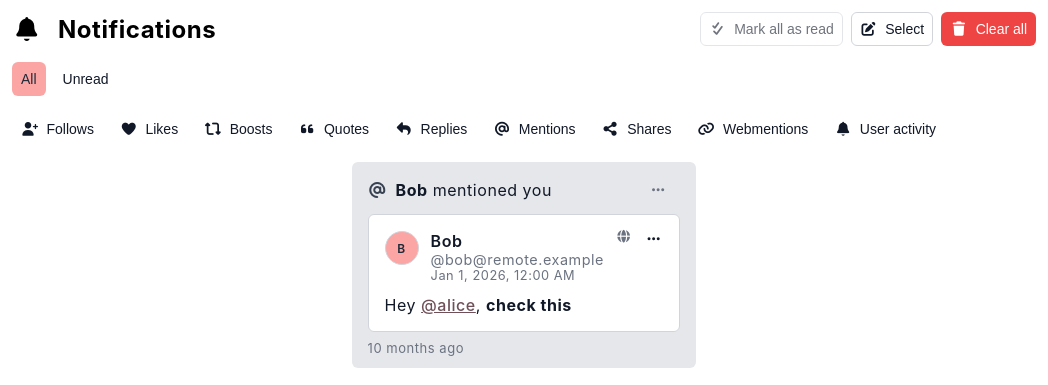
NotificationsView › renders mention notifications as a read-only activity card
Check: the element with class "activity-card" is shown, box [368,214,680,332]
Click the 2nd button named "Open menu".
click(654, 239)  # box [644,231,663,247]
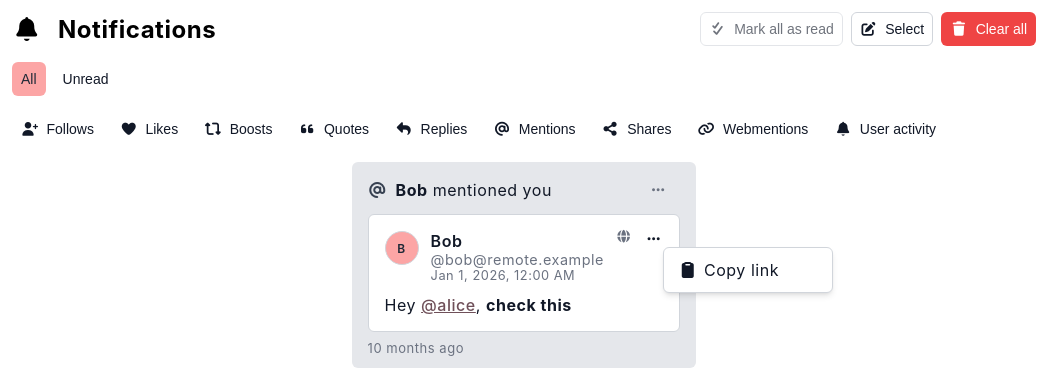
Check: the menu with class "context-menu" reads "Copy link", box [704,260,779,280]
